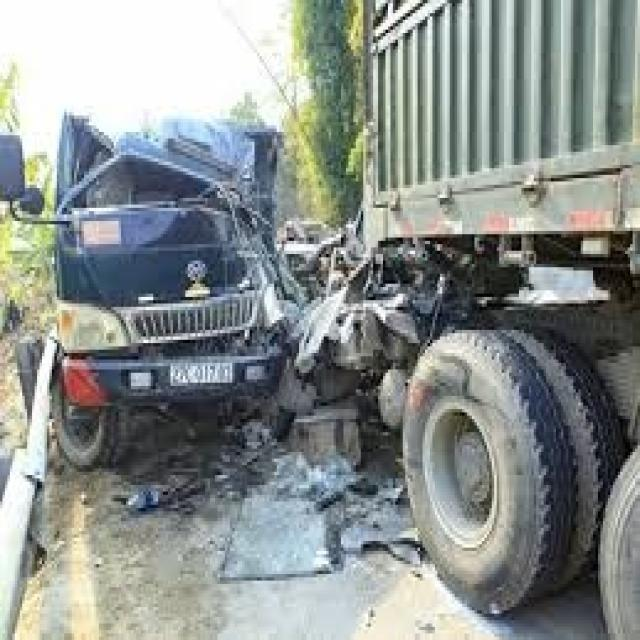accident: (47, 76, 627, 513)
